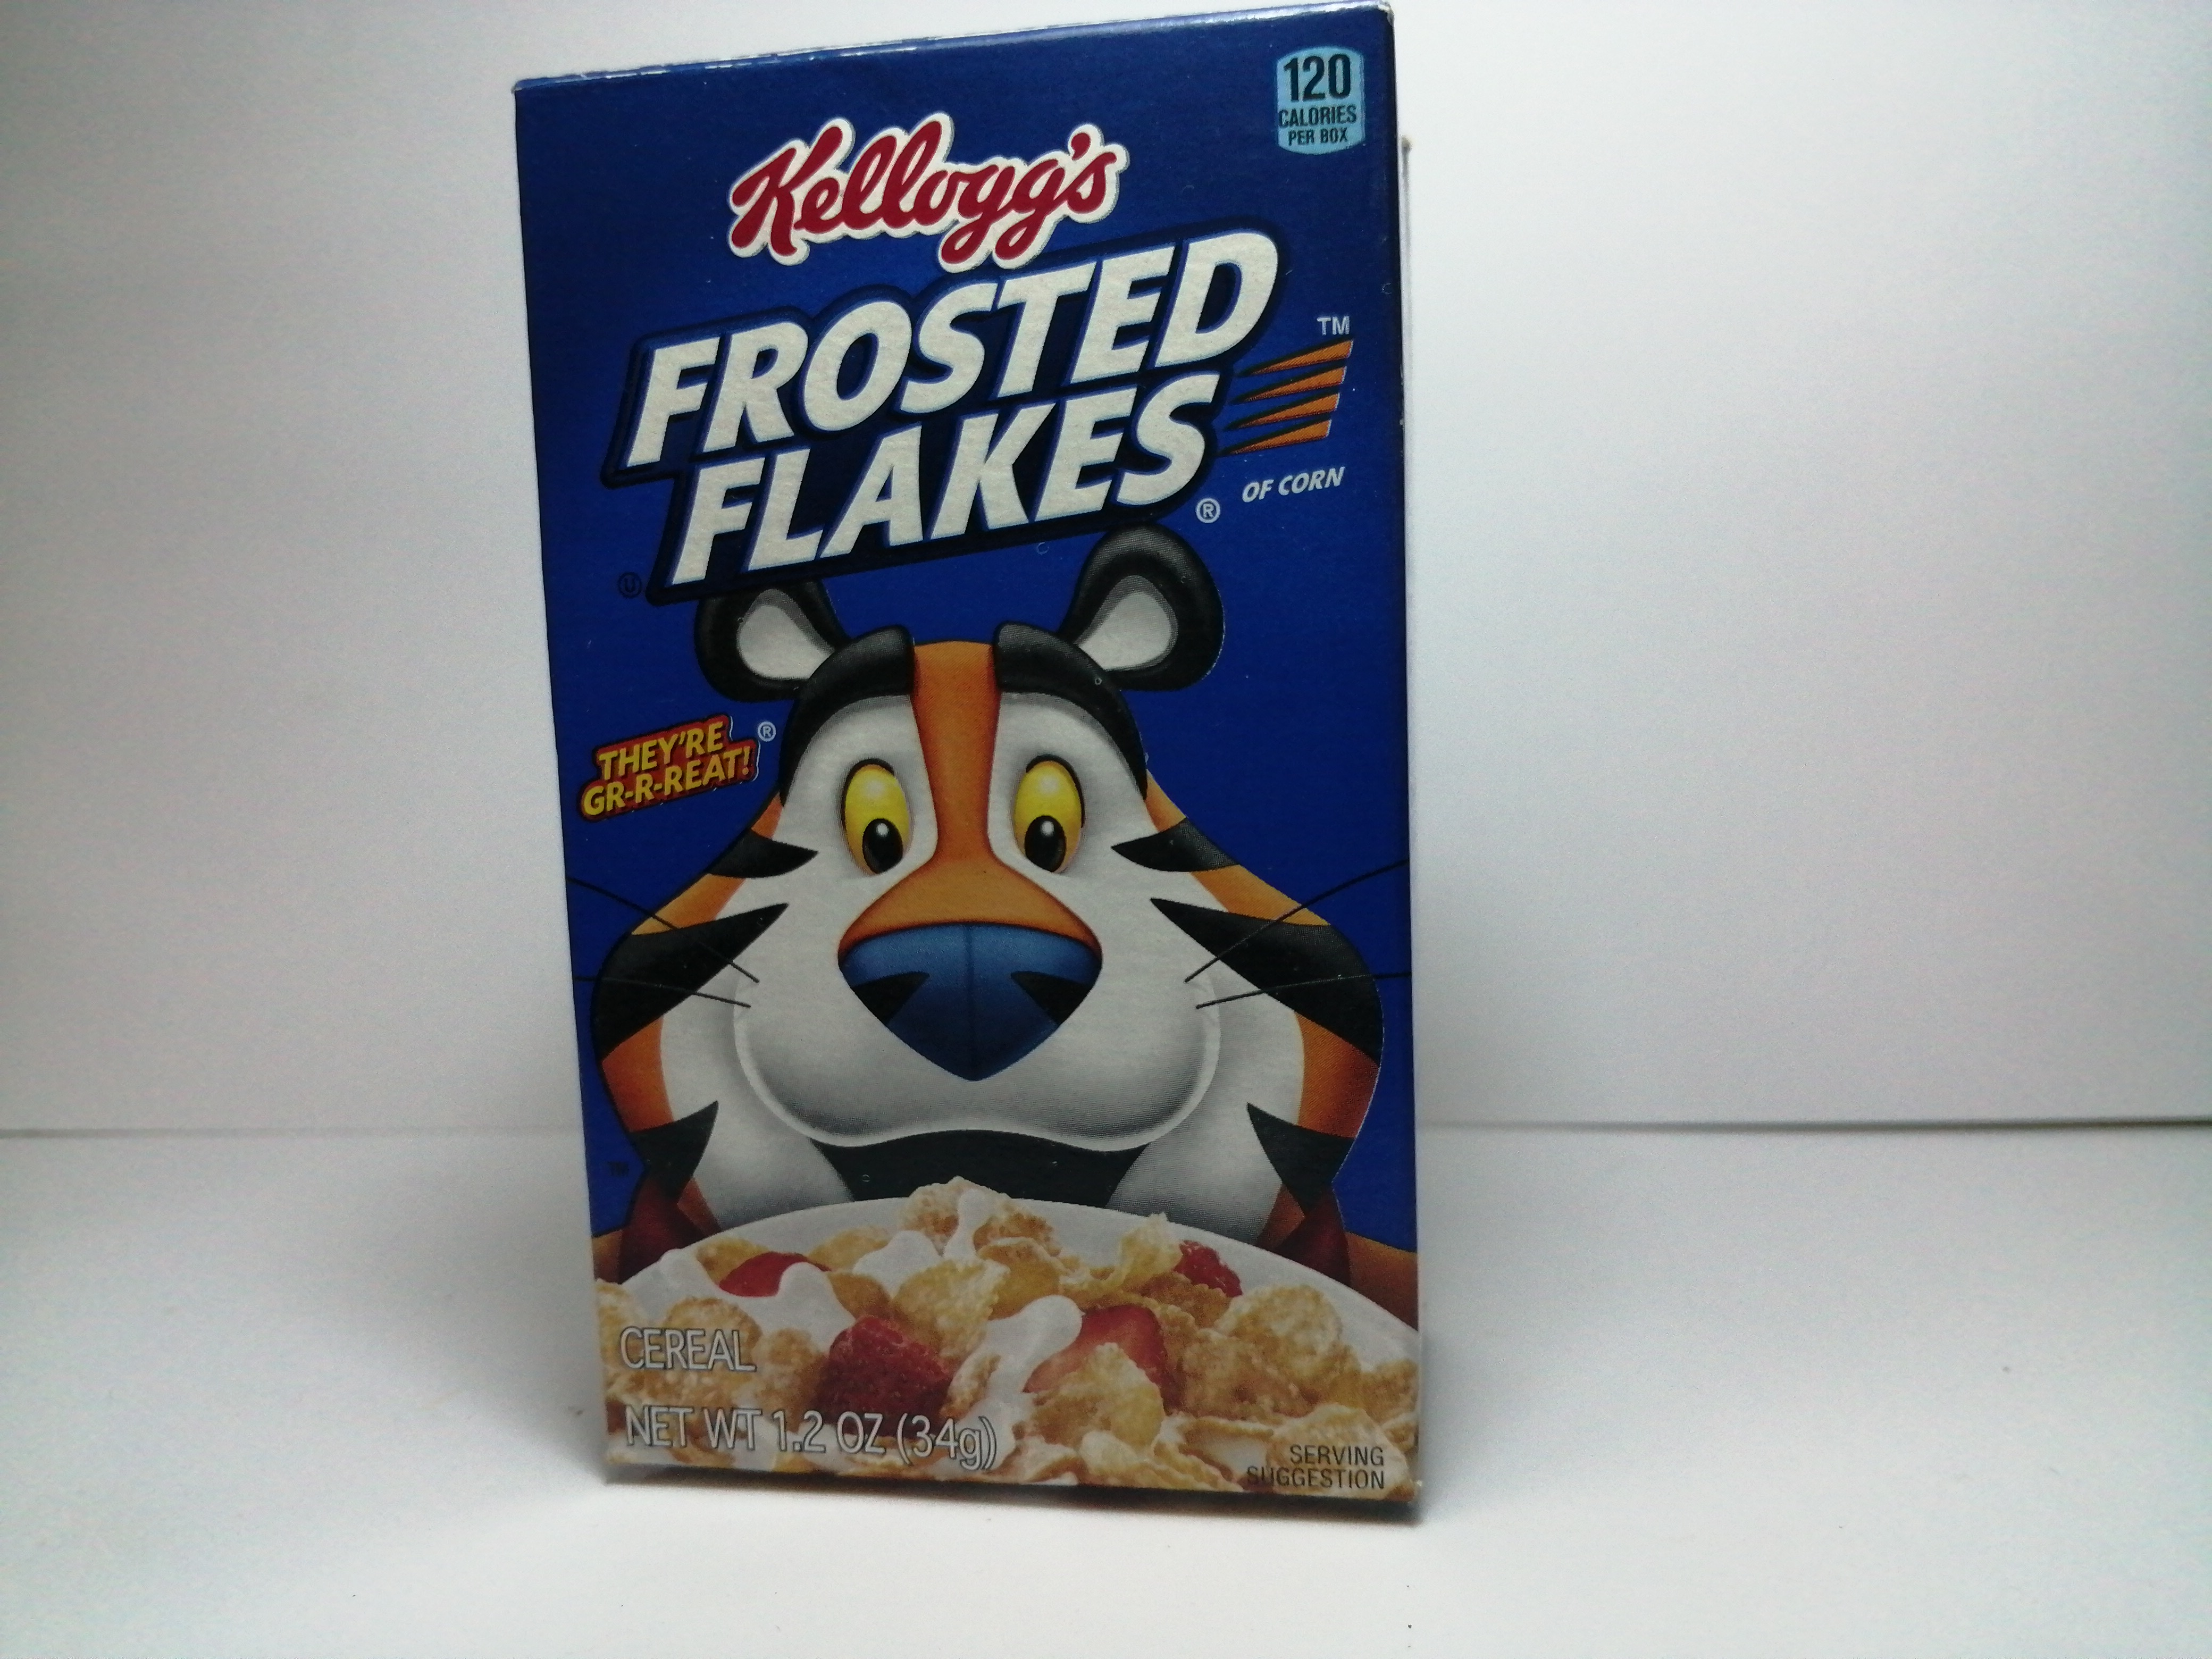cereal azucarado: (475, 2, 1475, 1532)
